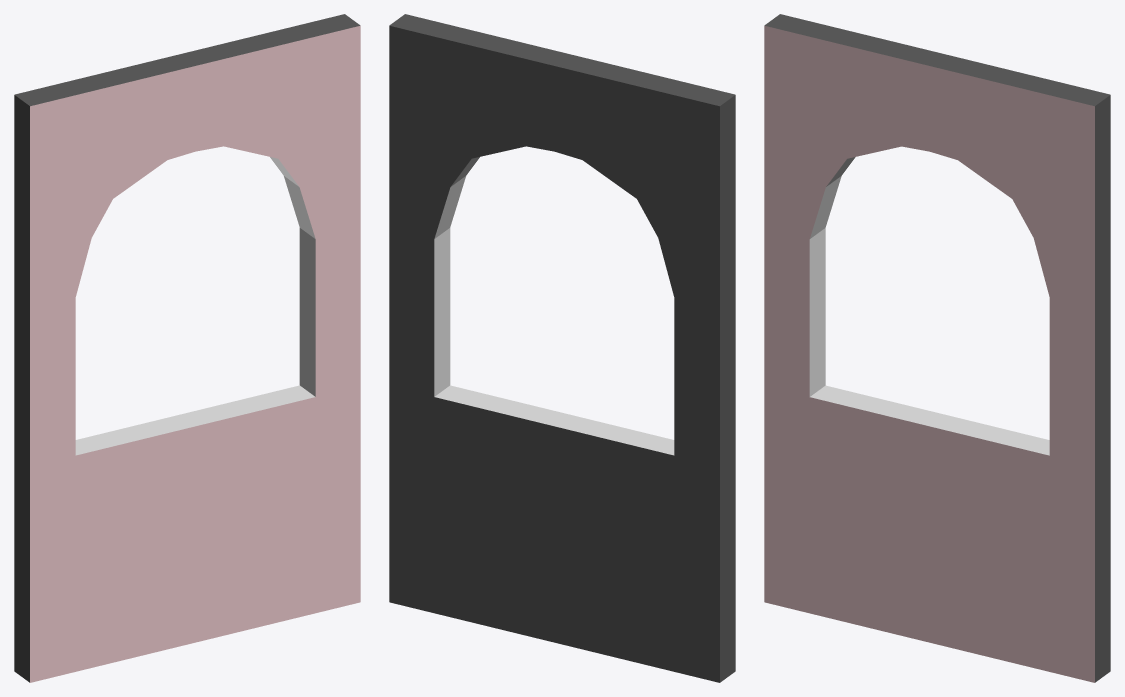
The model's file is Wall_3.fbx.
The picture shows the model from 3 angles, left to right: view 1: azimuth 30°, elevation 25°; view 2: azimuth 150°, elevation 25°; view 3: azimuth 330°, elevation 25°; orthographic projection.
Visible parts, largest first — view 1: Wall_3; view 2: Wall_3; view 3: Wall_3.
Part boxes in pixels (x1,y1,x2,y2): Wall_3: (14,14,360,682); Wall_3: (389,14,735,682); Wall_3: (764,14,1110,682).
Size of the model in its own units: 120 by 200 by 10.
